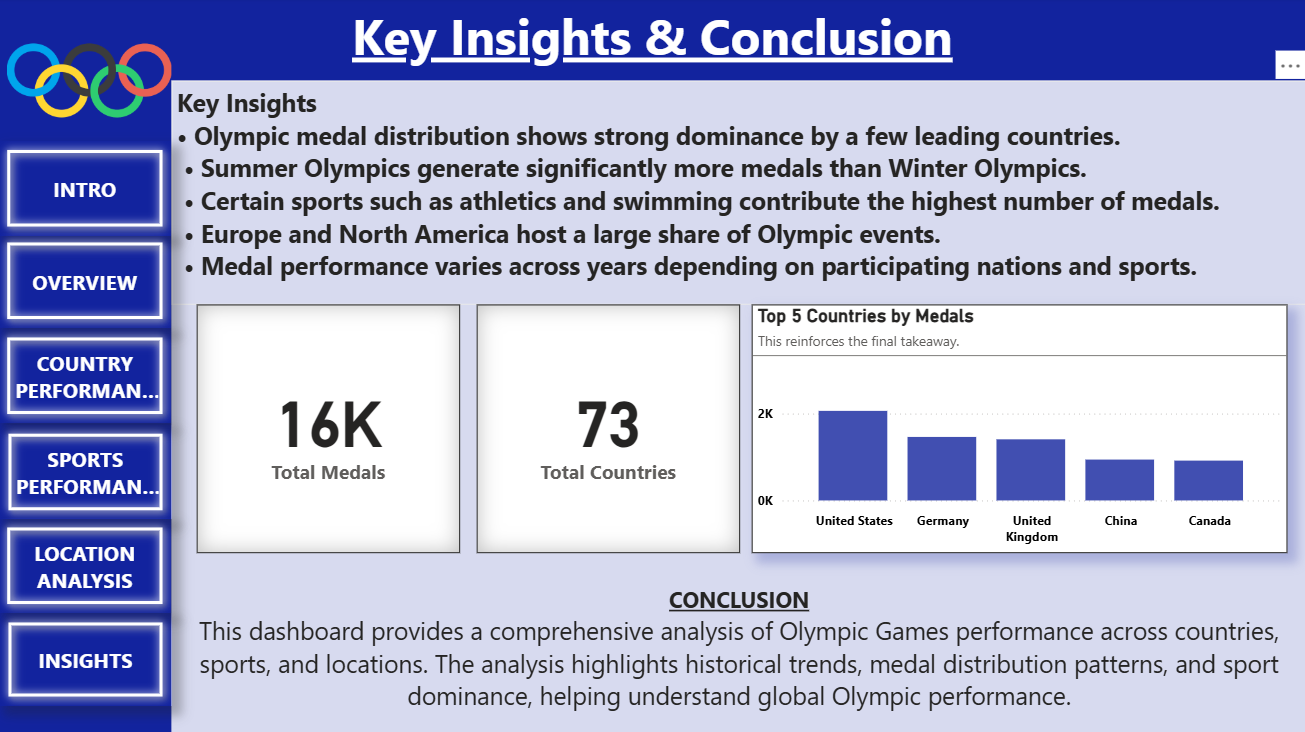

Layout of this report page (visuals, bound fields, positions):
{"tool":"powerbi","page":{"name":"Key Insights & Conclusion","canvas":[1280,720],"ordinal":6},"visuals":[{"type":"textbox","box":[0,0,1280.3,81.9],"z":0},{"type":"textbox","box":[0,0,170,720.2],"z":1000},{"type":"textbox","box":[170.2,82.3,1110.1,218.2],"z":2000},{"type":"textbox","box":[170.2,569.5,1110.1,150.9],"z":3000},{"type":"card","fields":{"Values":["Sheet1.Total Medals"]},"box":[194.9,300.5,258,242.9],"z":4000},{"type":"card","fields":{"Values":["Sheet1.Total Countries"]},"box":[467.9,300.5,258,242.9],"z":5000},{"type":"clusteredColumnChart","title":"Top 5 Countries by Medals","fields":{"Y":["Sheet1.Total Medals"],"Category":["Sheet1.npc_name"]},"box":[736.9,300.5,524.2,242.9],"z":6000},{"type":"image","box":[0,1.4,178.4,160.5],"z":7000},{"type":"actionButton","box":[0,140.6,170,92.9],"z":7001},{"type":"actionButton","box":[0,231.1,170,92.9],"z":7002},{"type":"actionButton","box":[0,324.1,170,92.9],"z":7003},{"type":"actionButton","box":[1.2,418.2,168.8,92.9],"z":7004},{"type":"actionButton","box":[0,509.9,170,92.9],"z":7005},{"type":"actionButton","box":[1.2,602.9,168.8,90.5],"z":7006}]}

Visuals, with their boxes in screenshot pixels (x1, y1, x2, y2), scaled from the page's 1280x720 canvas onto the 1305x732 screenshot:
textbox: locate(0, 0, 1304, 83)
textbox: locate(0, 0, 173, 731)
textbox: locate(174, 84, 1304, 306)
textbox: locate(174, 579, 1304, 731)
card - Sheet1.Total Medals: locate(199, 306, 462, 552)
card - Sheet1.Total Countries: locate(477, 306, 740, 552)
"Top 5 Countries by Medals" clusteredColumnChart: locate(751, 306, 1286, 552)
image: locate(0, 1, 182, 165)
actionButton: locate(0, 143, 173, 237)
actionButton: locate(0, 235, 173, 329)
actionButton: locate(0, 330, 173, 424)
actionButton: locate(1, 425, 173, 520)
actionButton: locate(0, 518, 173, 613)
actionButton: locate(1, 613, 173, 705)
